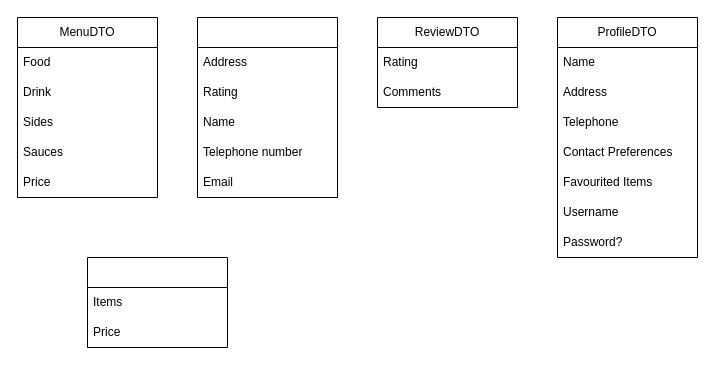
Image size: 715x365. Some labels were removed from this diagram. The shapes that lost their labels are listed below. From the top down, each one's box as (x1, y1, x2, y2) in pixels, then its label:
(196, 16, 338, 198): RestaurantDTO
(86, 256, 228, 348): OrderDTO
